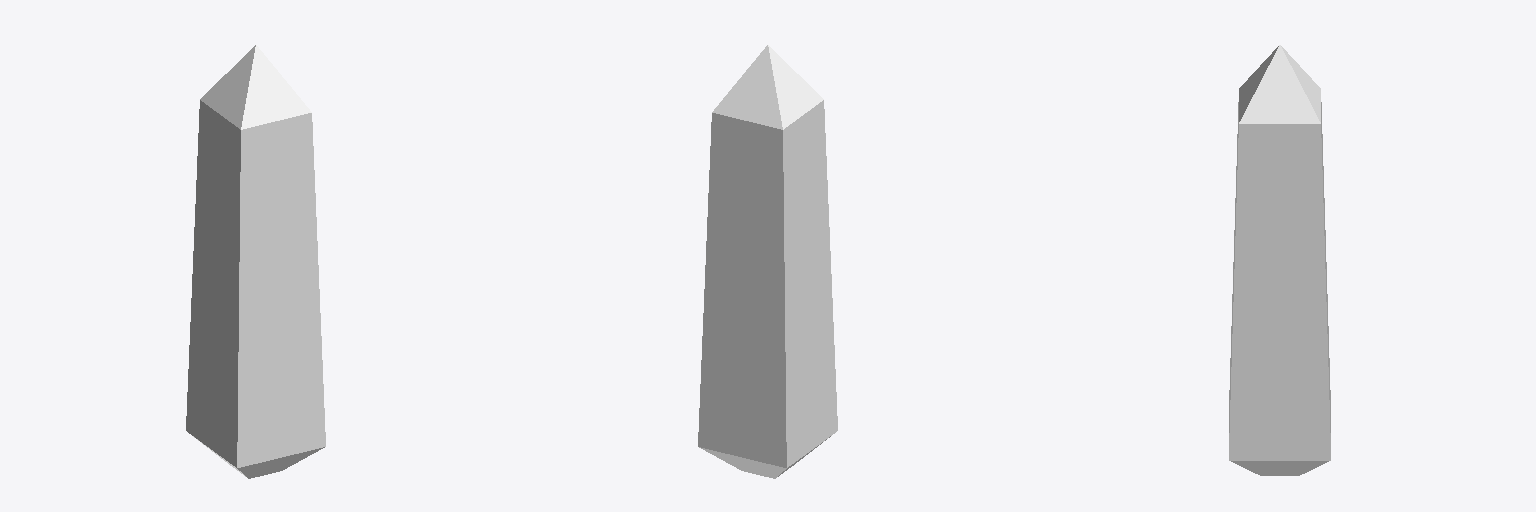
Rendered from obelisco_oro.obj.
The picture shows the model from 3 angles: view 1: azimuth 30°, elevation 25°; view 2: azimuth 150°, elevation 25°; view 3: azimuth 270°, elevation 25°; orthographic projection.
Visible parts, largest first — view 1: Cubo; view 2: Cubo; view 3: Cubo.
Part boxes in pixels (x1,y1,x2,y2): Cubo: (186, 45, 325, 478); Cubo: (698, 45, 837, 478); Cubo: (1229, 45, 1330, 475).
Bounding box in the file's own units: 200 × 911 × 200.